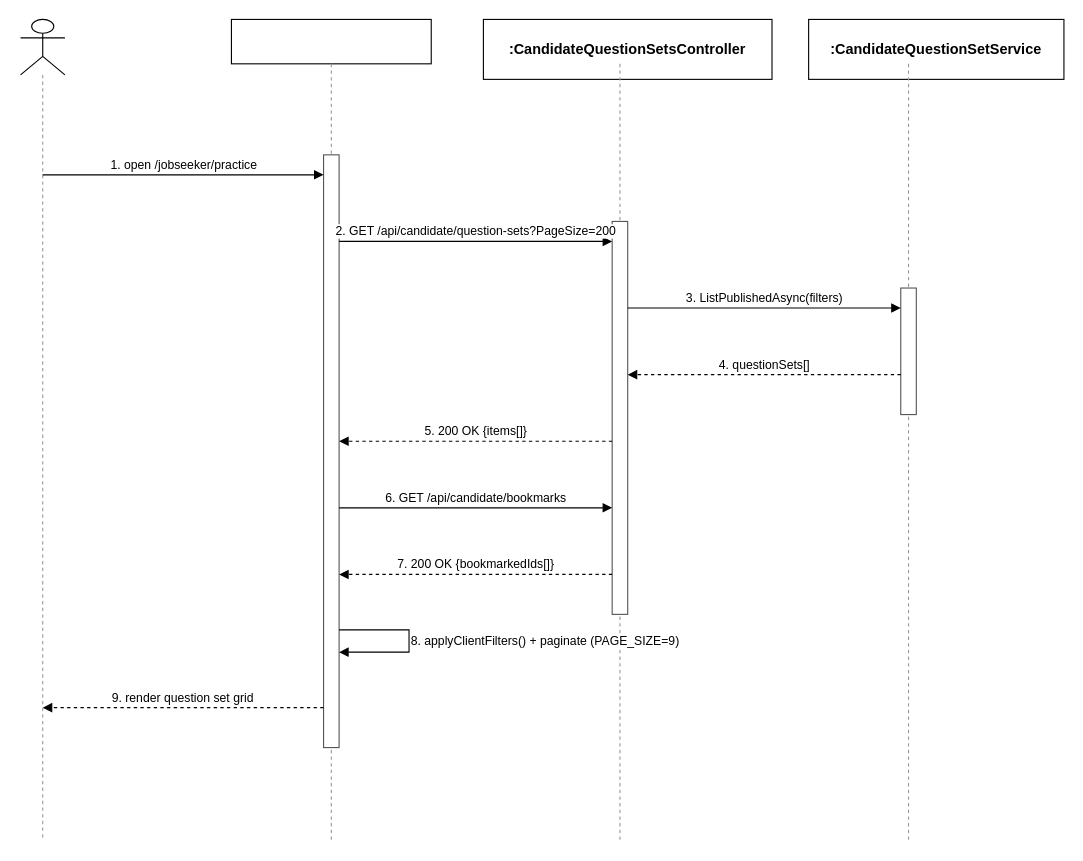
Image size: 1083x861. Some labels were removed from this diagram. The shapes that lost their labels are listed below. From the top down, each one's box as (x1, y1, x2, y2) in pixels, then its label:
(19, 18, 65, 75): Job Seeker
(230, 18, 431, 64): :MarketplacePage
